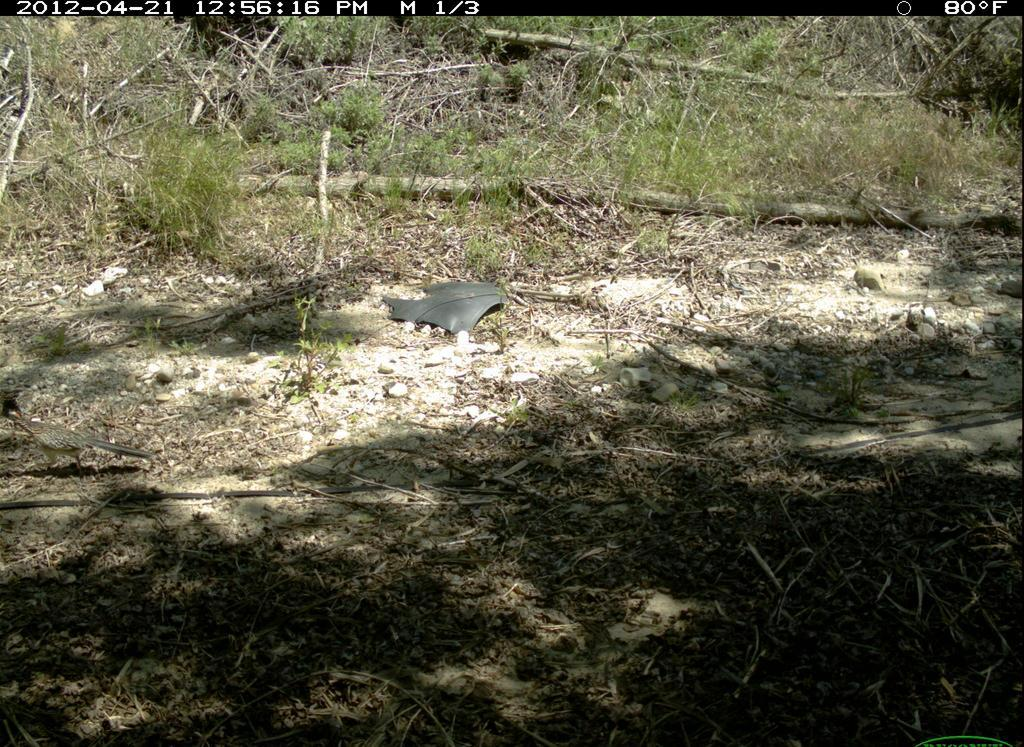bird: (2, 394, 157, 482)
